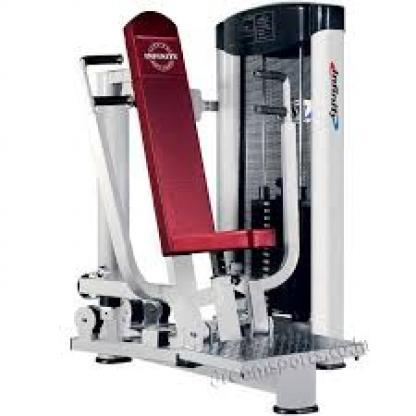Chest Press machine: (71, 0, 374, 416)
